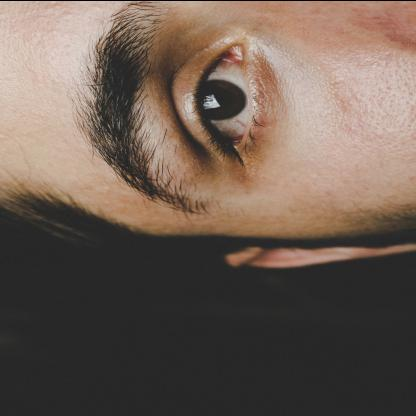Eye: (174, 31, 283, 176)
